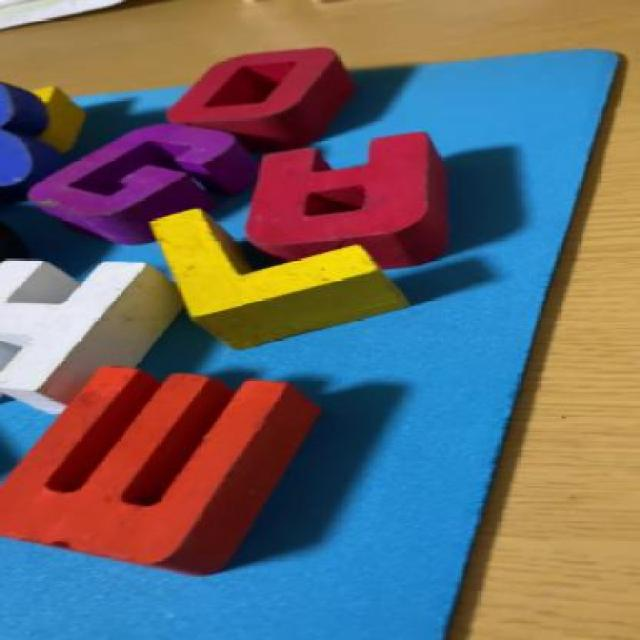G: (38, 124, 260, 236)
L: (123, 210, 409, 339)
O: (167, 52, 355, 132)
W: (0, 360, 335, 601)
